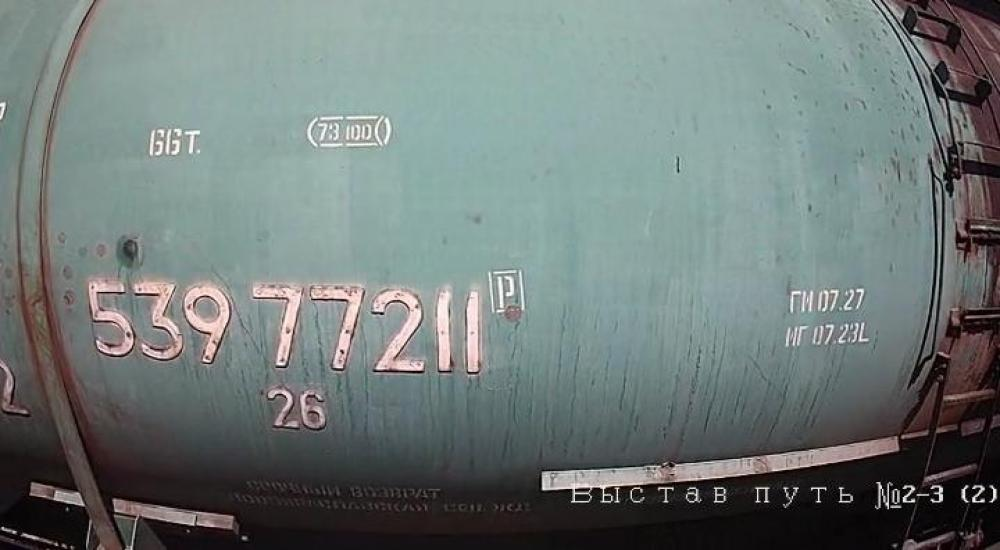Wagon-number: (83, 276, 488, 382)
